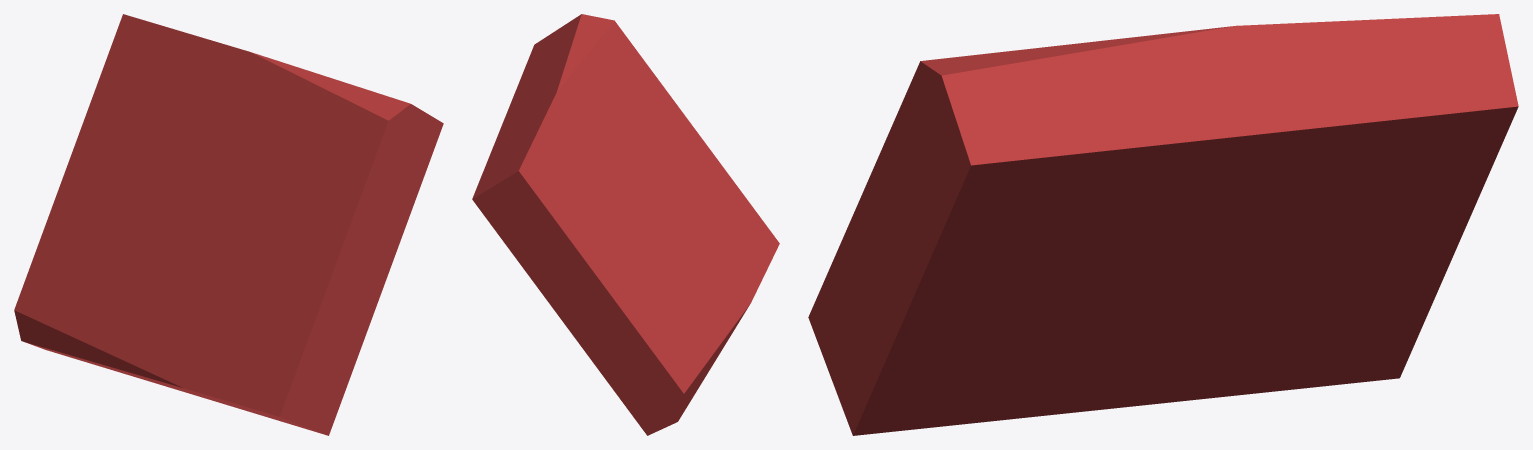
The model's file is ea_arch_wall03_rubble_01b_pre__9__lev1.glb.
The picture shows the model from 3 angles, left to right: view 1: azimuth 30°, elevation 25°; view 2: azimuth 150°, elevation 25°; view 3: azimuth 270°, elevation 25°; orthographic projection. The views are drawn at different scales.
Visible parts, largest first — view 1: ea_arch_wall03_rubble_01b_pre__9__lev1; view 2: ea_arch_wall03_rubble_01b_pre__9__lev1; view 3: ea_arch_wall03_rubble_01b_pre__9__lev1.
Part boxes in pixels (bbox=[...]): ea_arch_wall03_rubble_01b_pre__9__lev1: bbox=[14, 14, 443, 435]; ea_arch_wall03_rubble_01b_pre__9__lev1: bbox=[472, 14, 779, 435]; ea_arch_wall03_rubble_01b_pre__9__lev1: bbox=[808, 14, 1518, 435].
Bounding box in the file's own units: 1.18 × 1.14 × 1.57.
1 material, 1 textured.
